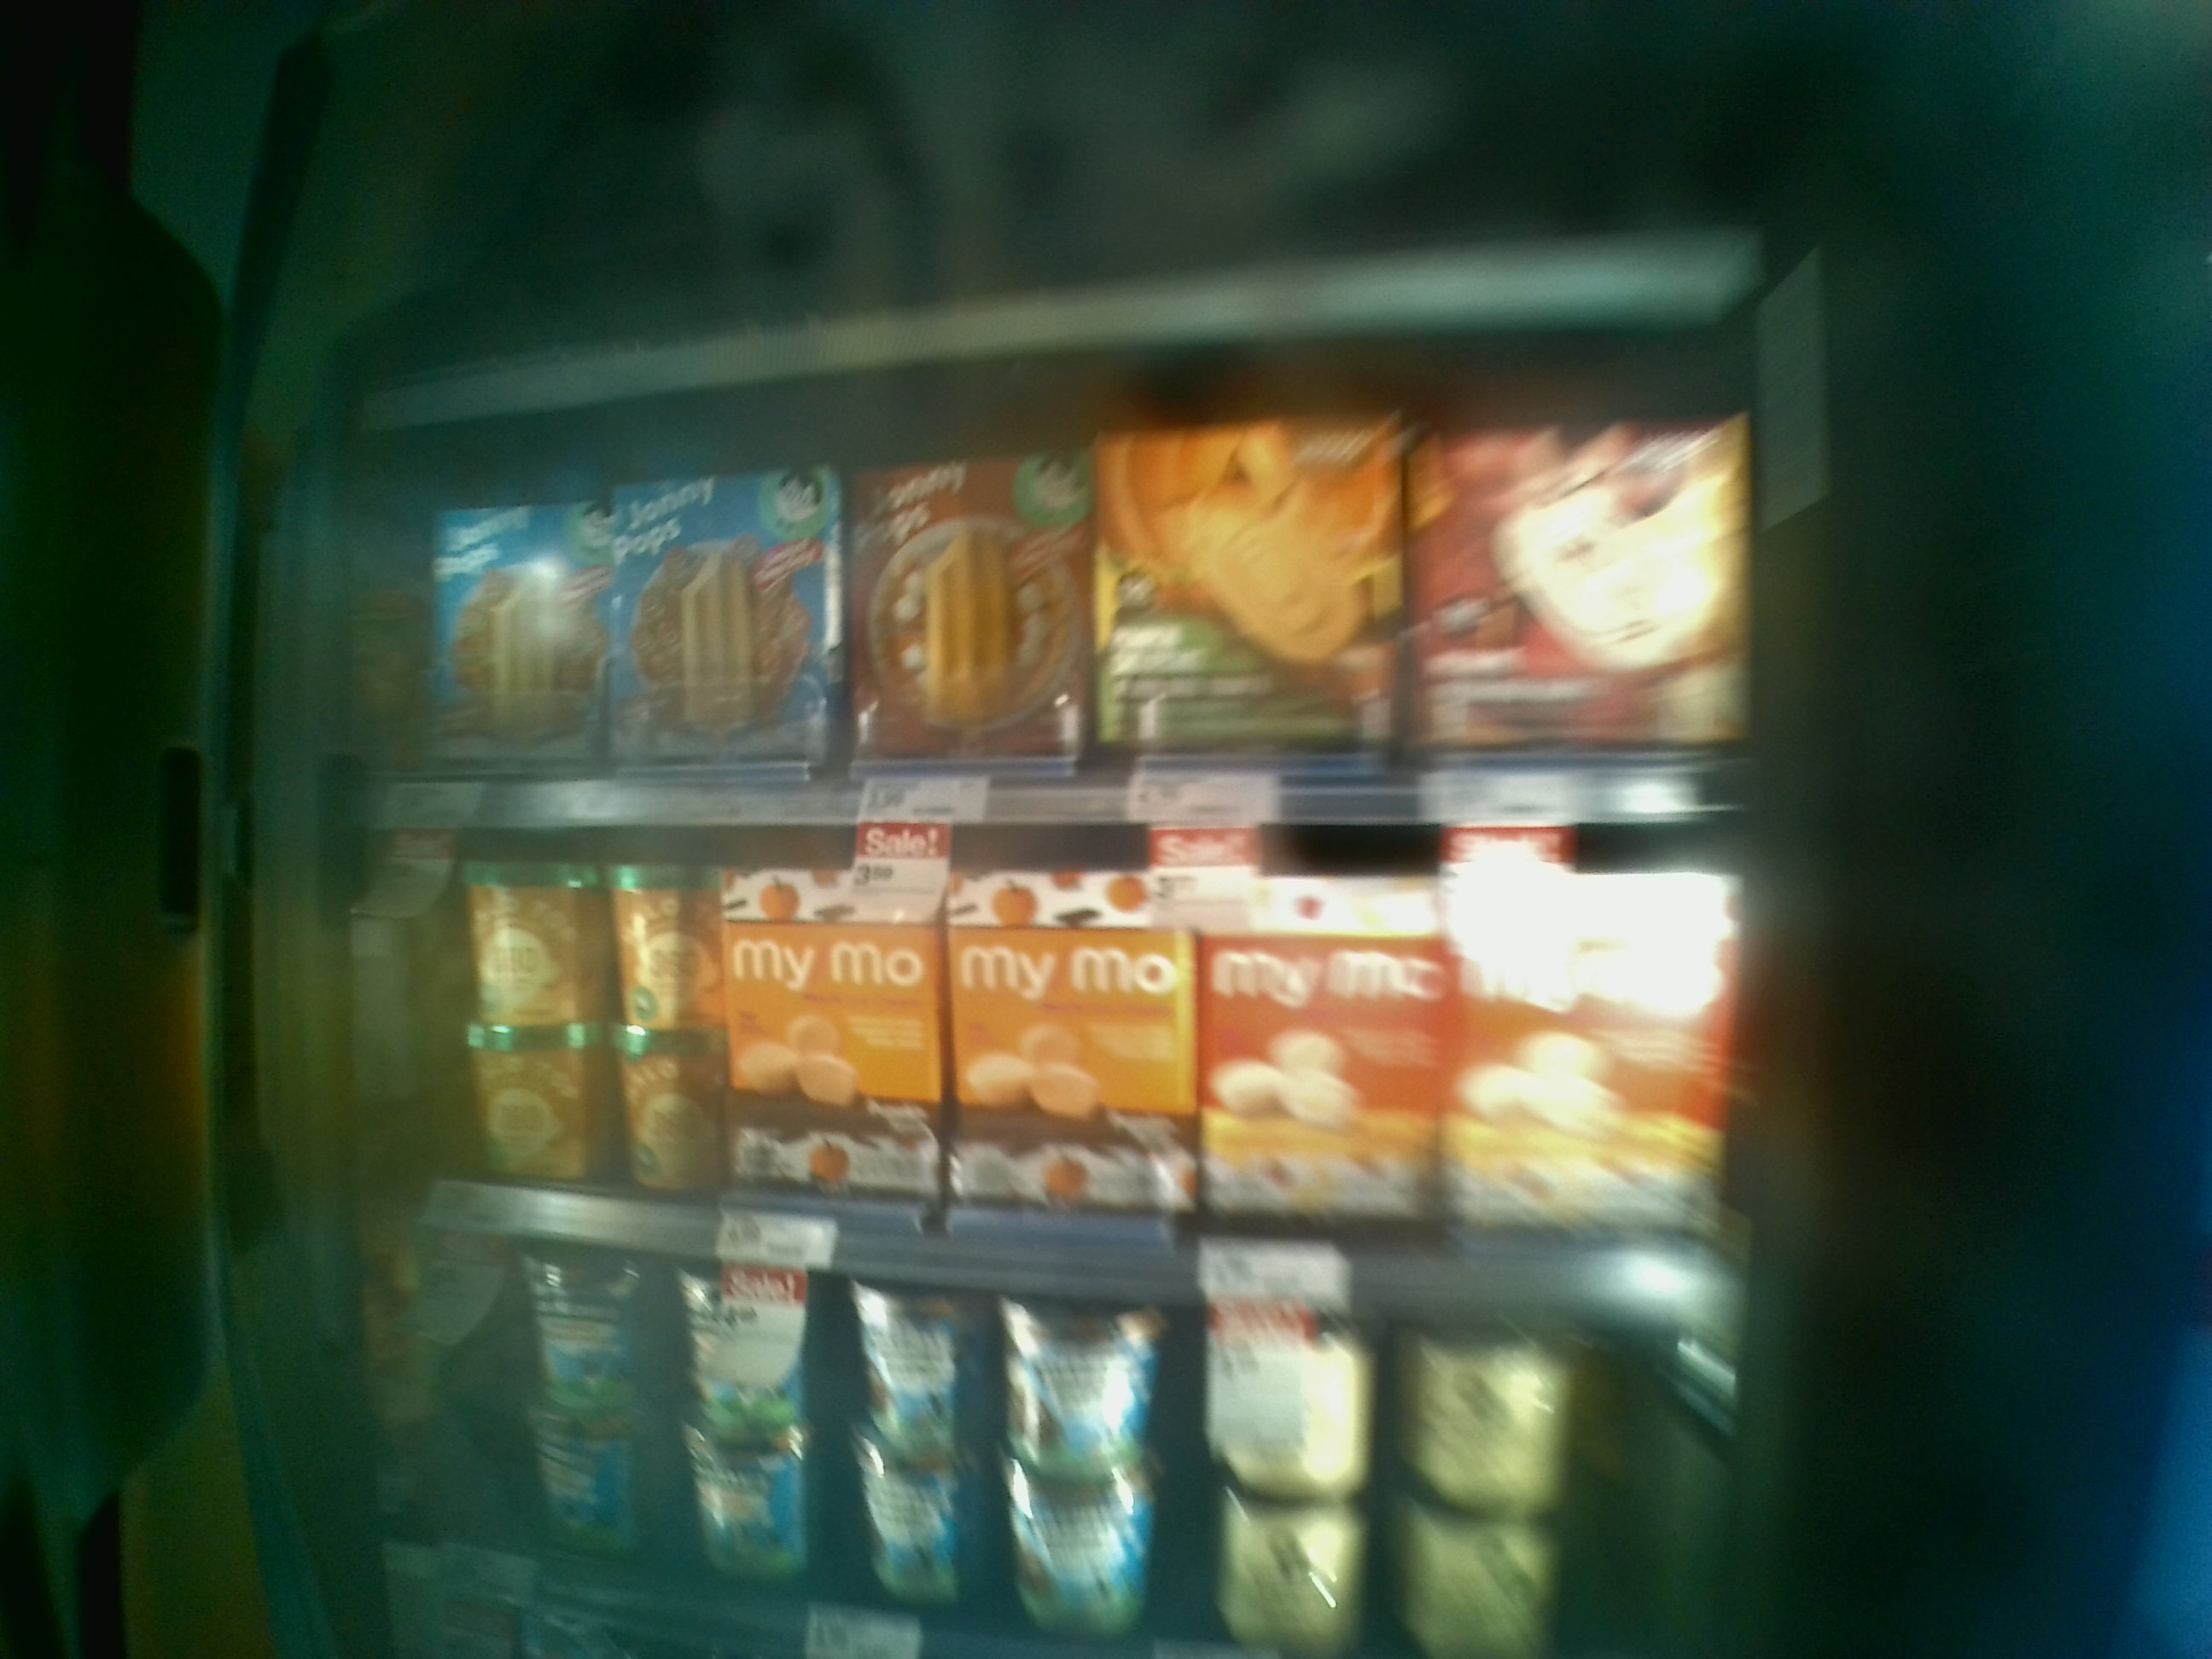shelf: (303, 816, 1749, 1331), (314, 389, 1768, 828)
